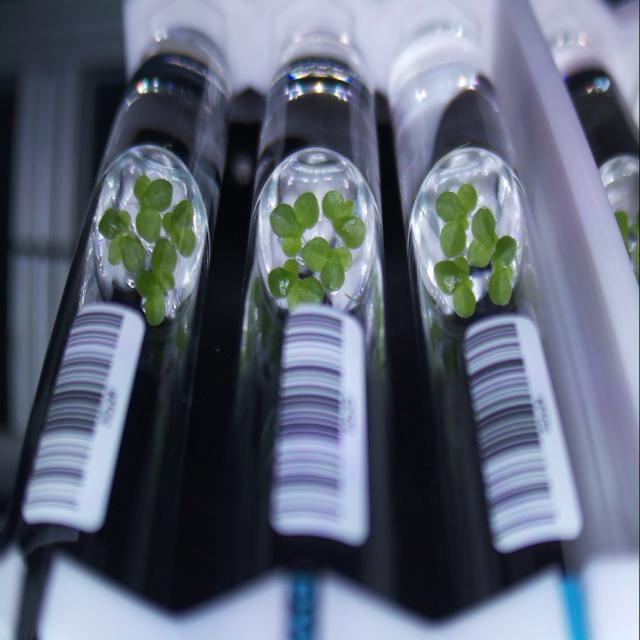Lemna-Gibba: (288, 277, 324, 312), (332, 215, 366, 248), (434, 260, 465, 294), (301, 237, 331, 272), (142, 178, 172, 212), (270, 203, 300, 237), (151, 238, 178, 274), (135, 205, 161, 242), (99, 207, 130, 238), (322, 190, 354, 220), (471, 207, 496, 245), (121, 233, 145, 272), (435, 192, 466, 222), (320, 255, 345, 292), (440, 222, 466, 257), (294, 192, 319, 228), (268, 267, 296, 299), (492, 235, 518, 269), (452, 279, 475, 317), (489, 269, 511, 305), (468, 238, 492, 269), (171, 227, 195, 257), (135, 270, 161, 297), (171, 200, 194, 230), (144, 294, 165, 325), (176, 227, 196, 257), (458, 183, 478, 213), (154, 270, 175, 292), (134, 175, 151, 202), (334, 247, 352, 272), (281, 235, 301, 257), (108, 235, 122, 265), (284, 259, 299, 279), (162, 212, 175, 233), (455, 257, 470, 275), (120, 210, 131, 230), (504, 265, 514, 280), (459, 217, 469, 230)
